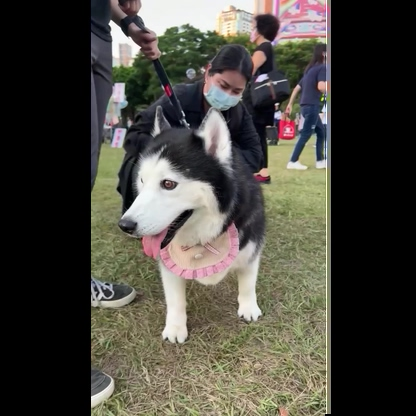husky: (106, 102, 279, 345)
